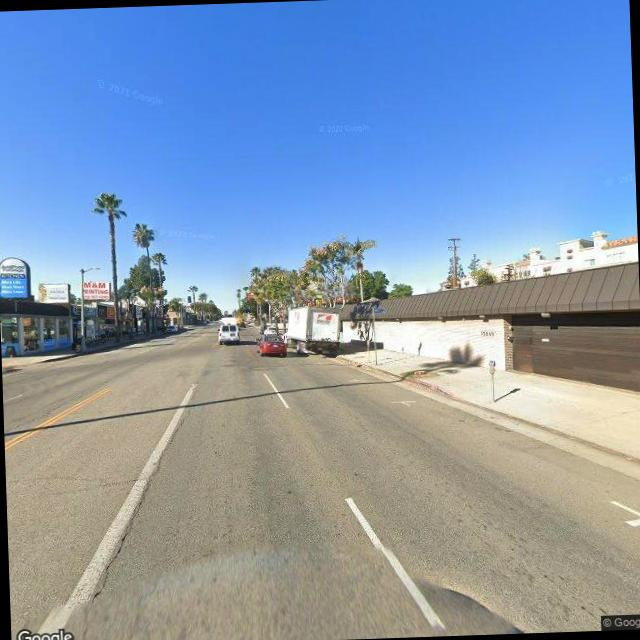crack: (88, 430, 178, 594), (45, 472, 139, 497)
